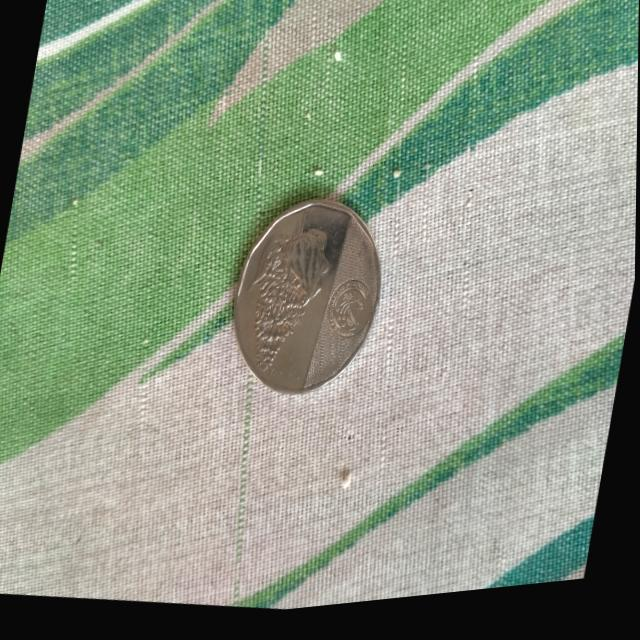10_New_Back: (234, 200, 346, 406)
